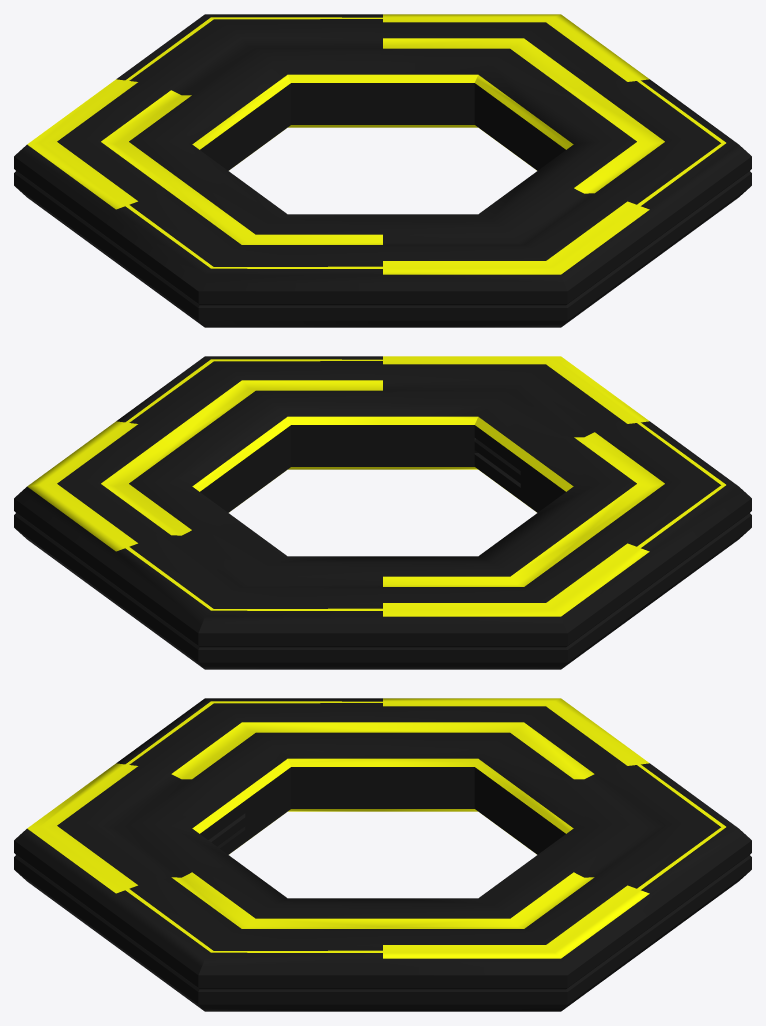
File: Coin.fbx
3 renders of one model, top to bottom at view 1: azimuth 30°, elevation 25°; view 2: azimuth 150°, elevation 25°; view 3: azimuth 270°, elevation 25°, orthographic.
Visible parts, largest first — view 1: Tube004; view 2: Tube004; view 3: Tube004.
Part boxes in pixels (x1,y1,x2,y2): Tube004: (14, 14, 751, 327); Tube004: (14, 356, 751, 669); Tube004: (14, 698, 751, 1011).
Bounding box in the file's own units: 5953 × 658 × 6874.
